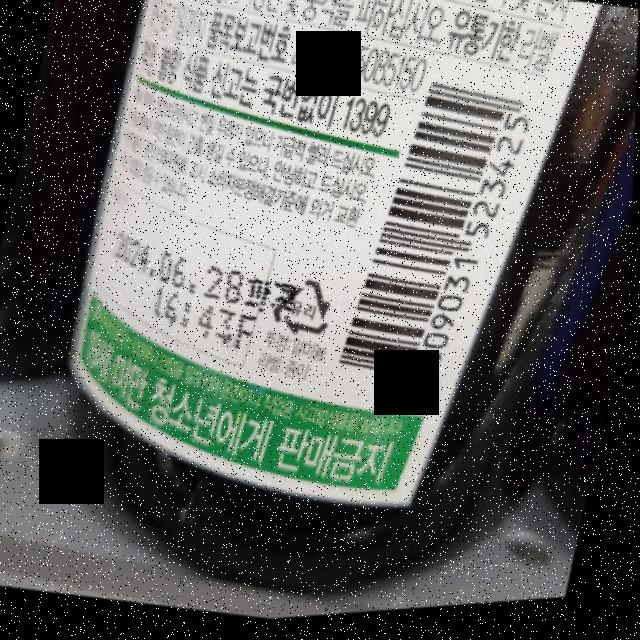Glass: (268, 271, 346, 349)
